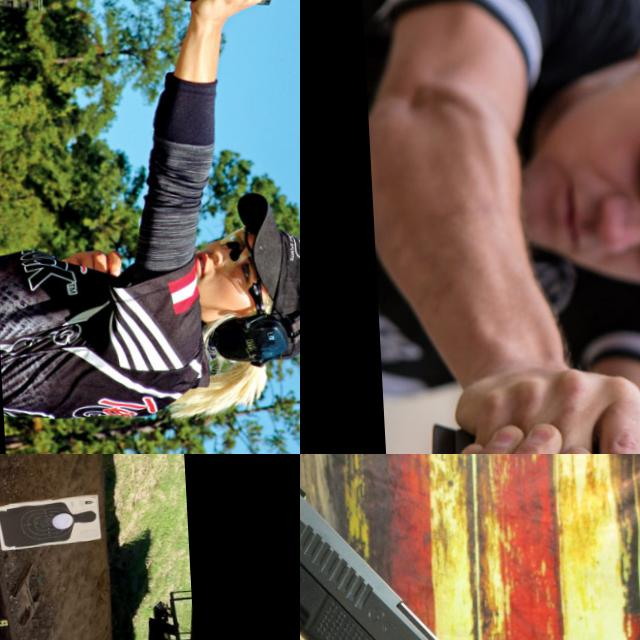handgun: (300, 465, 599, 640), (232, 0, 300, 71), (0, 585, 19, 640)
